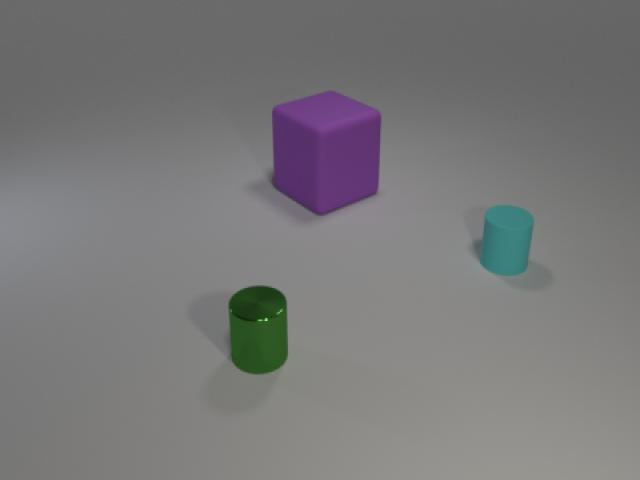cylinder: (221, 277, 295, 381), (472, 196, 541, 290)
